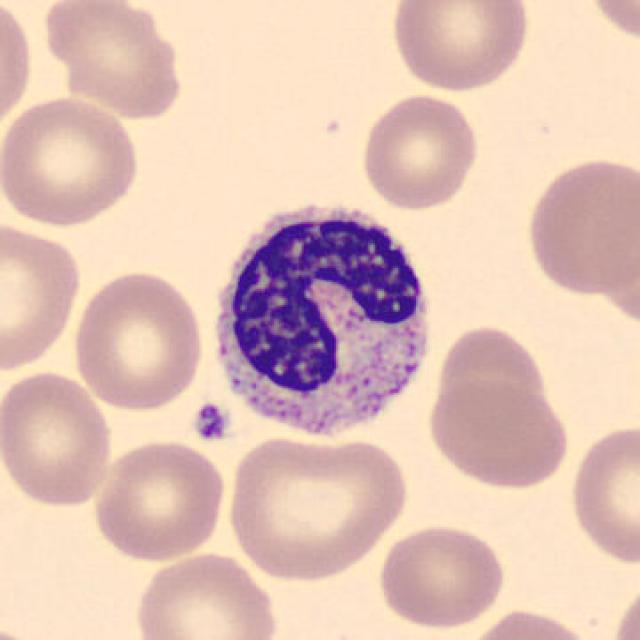Neutrophil: (199, 189, 441, 453)
Platelets: (188, 402, 233, 444)
RBC: (220, 432, 412, 584), (69, 266, 208, 414), (0, 92, 144, 229), (35, 0, 188, 120), (89, 436, 229, 564), (425, 375, 572, 492), (523, 152, 638, 300), (0, 367, 116, 511), (375, 520, 509, 633), (357, 90, 482, 211), (428, 321, 553, 441), (385, 0, 535, 93), (130, 548, 281, 640), (0, 216, 85, 375), (566, 420, 638, 568), (0, 0, 36, 136), (458, 606, 599, 640), (581, 0, 640, 44), (608, 575, 638, 640)
